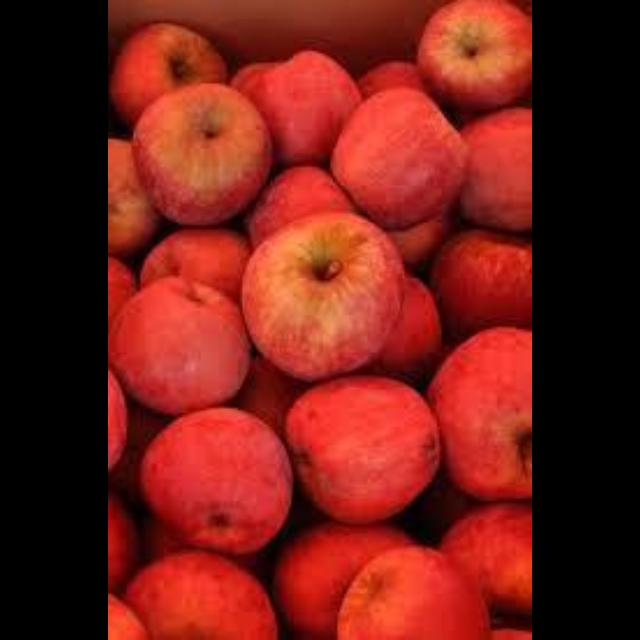apple: (242, 211, 402, 380), (284, 376, 440, 519), (140, 408, 291, 554), (131, 83, 270, 225), (108, 276, 249, 413), (331, 88, 465, 230), (428, 327, 530, 499), (273, 522, 412, 638), (338, 545, 491, 638), (236, 51, 358, 165), (124, 552, 277, 638), (416, 0, 530, 109), (110, 23, 226, 125), (430, 230, 530, 341), (440, 503, 530, 621), (245, 165, 354, 246), (460, 107, 530, 232), (140, 227, 249, 299), (372, 276, 440, 380), (108, 139, 161, 257), (236, 355, 305, 434), (389, 216, 454, 269), (108, 492, 136, 591), (358, 60, 426, 95), (108, 257, 134, 327), (108, 594, 147, 638), (108, 371, 124, 468)
